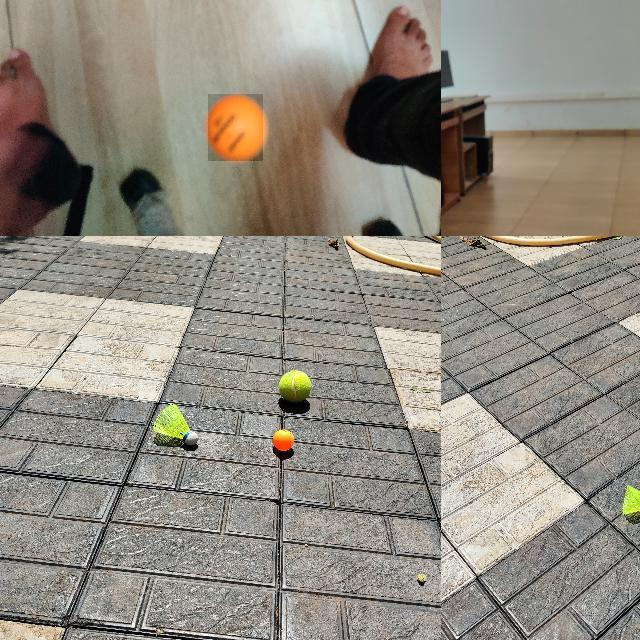ping-pong-ball: (208, 94, 264, 162), (272, 430, 292, 450)
